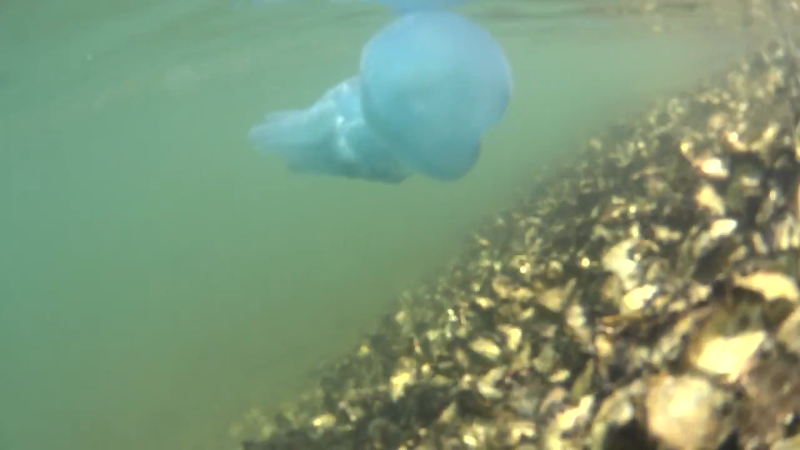blue jellyfish: (251, 9, 517, 194)
